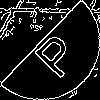P: (25, 25, 83, 81)
